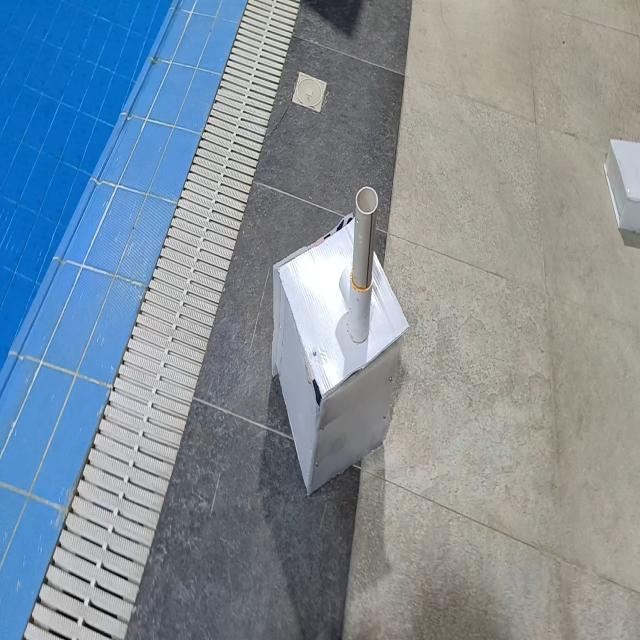Cube: (270, 210, 410, 496)
Cuboid: (603, 136, 639, 234)
